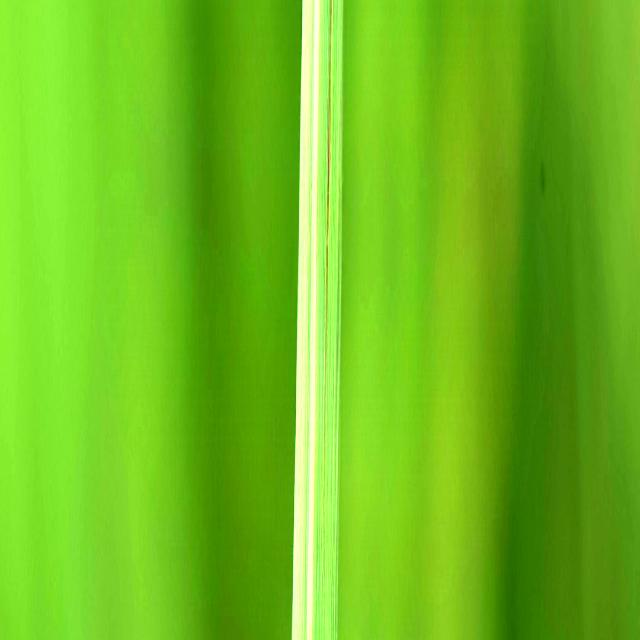BLS: (323, 0, 332, 518)
